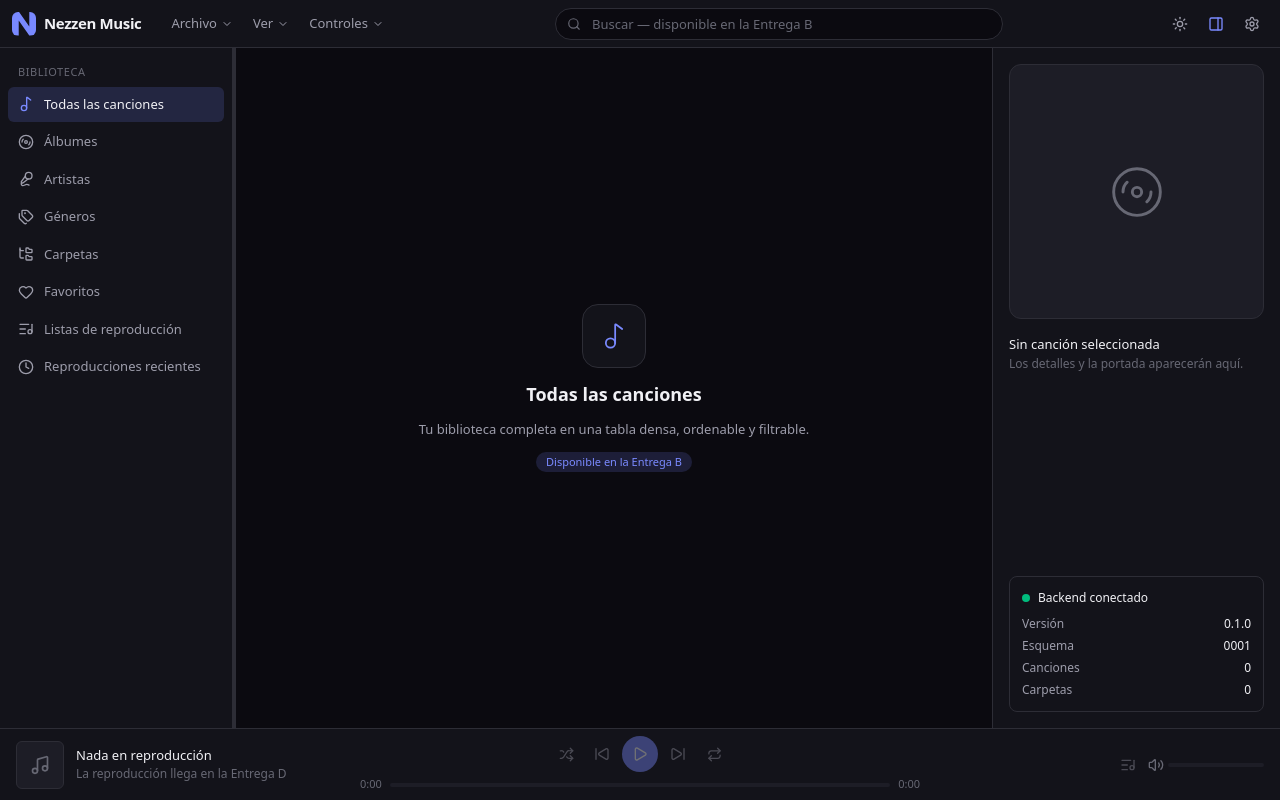
Scenario: shell › muestra las vistas de la barra lateral y cambia de vista
The image size is (1280, 800).
Click the button "Álbumes" at (116, 142), box [8,124,224,160]
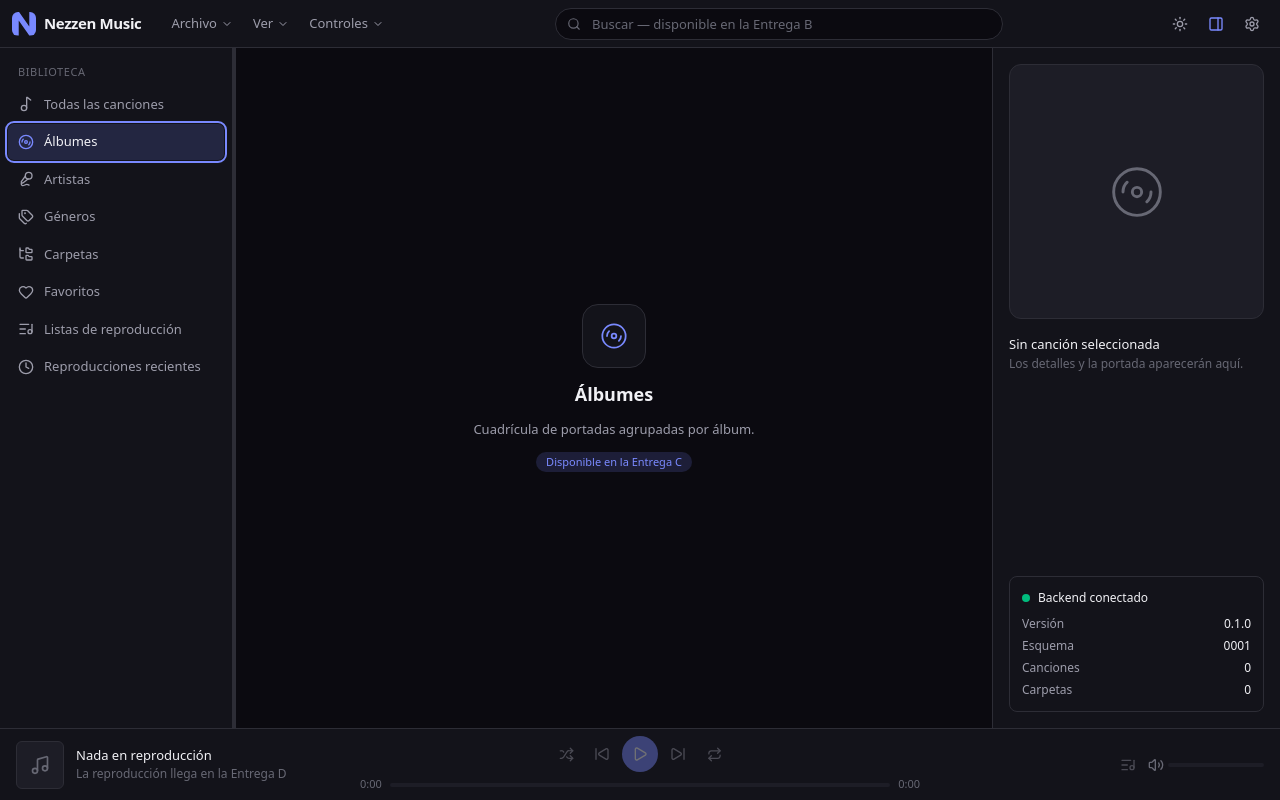
Check: the heading "Álbumes" is shown, box [575,380,653,408]
